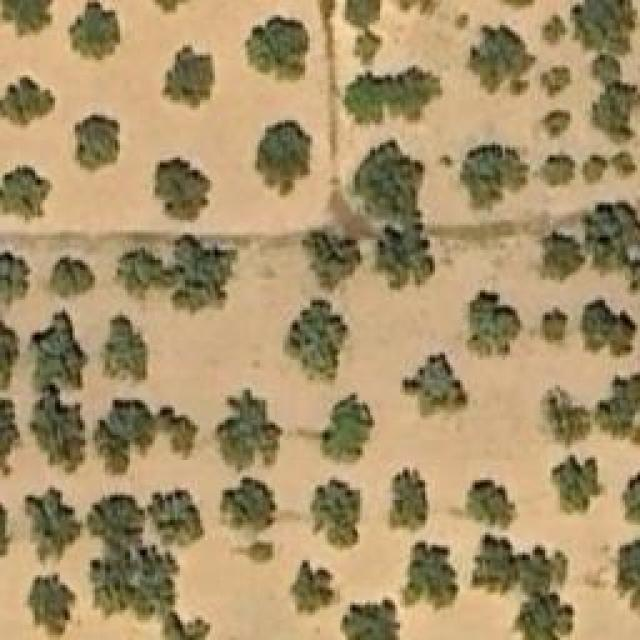Tree: (93, 400, 198, 475), (358, 135, 431, 218), (282, 300, 350, 388), (215, 390, 283, 473), (90, 553, 175, 619), (173, 223, 236, 307), (467, 23, 535, 93), (30, 308, 89, 386), (30, 388, 86, 470), (371, 223, 438, 287), (245, 15, 310, 80), (258, 120, 313, 195), (403, 353, 468, 416), (23, 485, 78, 557), (152, 158, 210, 223), (23, 572, 78, 640), (323, 392, 376, 460), (405, 542, 458, 610), (303, 230, 363, 290), (160, 45, 215, 110), (310, 478, 360, 548), (468, 293, 523, 356), (68, 0, 121, 65), (115, 240, 173, 299), (450, 480, 518, 530), (70, 113, 120, 178), (475, 530, 522, 599), (583, 297, 638, 355), (585, 208, 635, 271), (515, 545, 572, 600), (595, 372, 640, 440), (0, 75, 55, 130), (148, 490, 203, 545), (575, 0, 630, 55), (0, 167, 52, 224), (540, 387, 592, 444), (100, 313, 145, 378), (553, 455, 603, 513), (85, 495, 141, 545), (223, 478, 276, 528), (288, 557, 333, 615), (457, 148, 515, 193), (388, 468, 428, 533), (342, 597, 402, 640), (590, 85, 638, 138), (340, 73, 388, 125), (390, 68, 440, 117), (0, 0, 52, 40), (520, 595, 565, 640), (0, 249, 33, 306), (617, 537, 640, 612), (545, 235, 583, 280), (0, 317, 23, 390), (50, 257, 93, 295), (160, 608, 209, 640), (0, 397, 18, 475), (537, 63, 571, 100), (622, 467, 640, 535), (538, 10, 569, 48), (355, 28, 386, 65), (340, 0, 380, 28), (537, 155, 575, 183), (610, 148, 640, 183), (540, 110, 573, 140), (398, 0, 443, 15), (543, 313, 568, 338), (583, 155, 606, 180)
